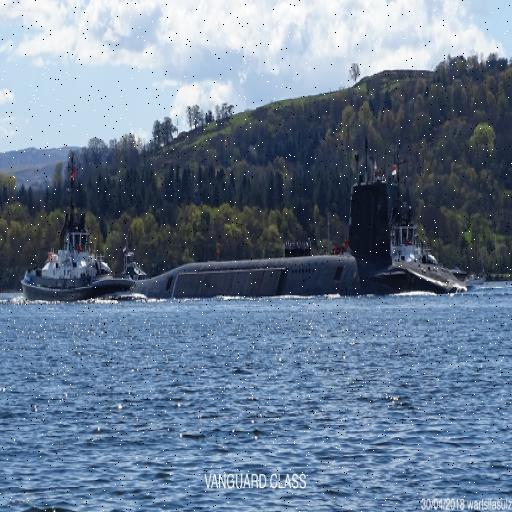submarine: (115, 183, 443, 299)
